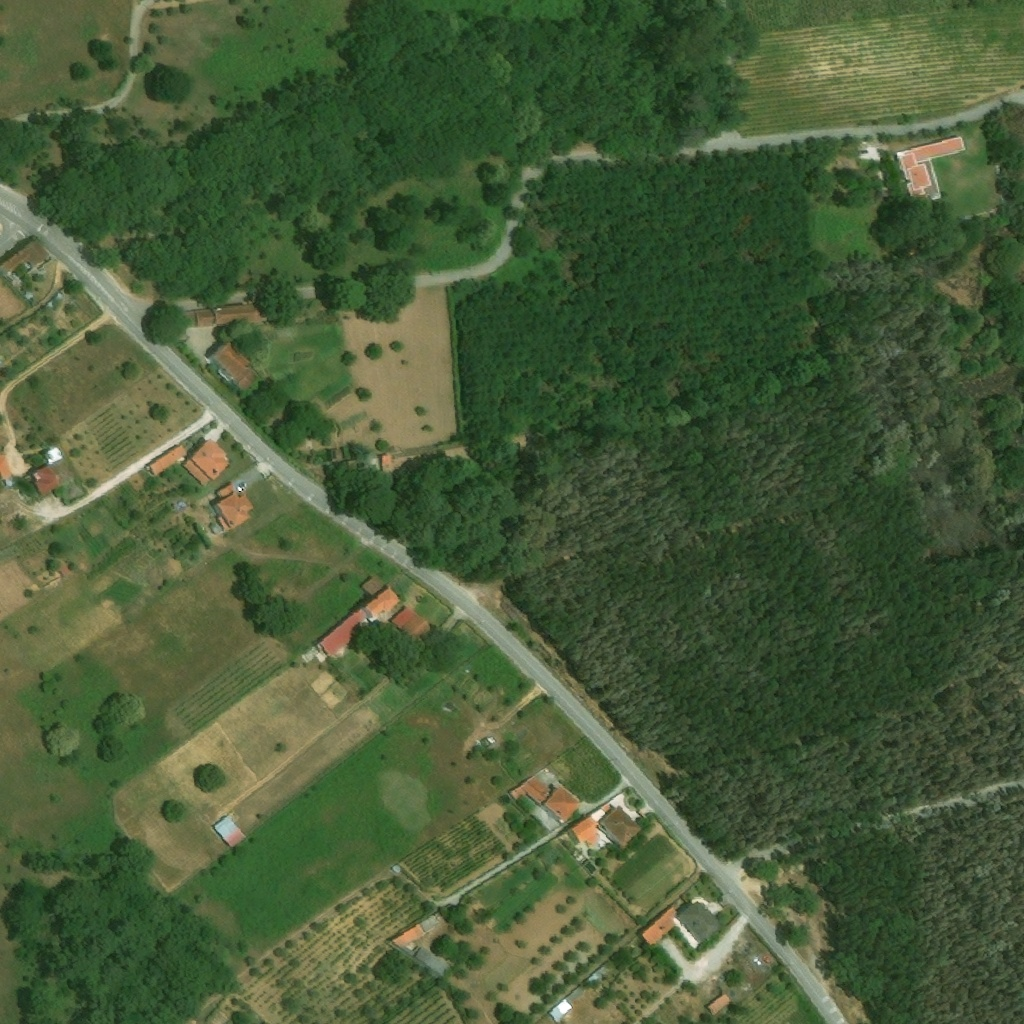0 no-damage: (893, 134, 967, 209), (311, 609, 369, 663), (208, 338, 261, 395), (182, 438, 231, 487), (212, 481, 255, 533), (677, 900, 725, 944), (0, 237, 50, 278), (391, 912, 446, 949), (598, 805, 643, 848), (390, 604, 434, 643), (192, 304, 256, 329), (638, 907, 678, 947), (361, 584, 402, 622), (401, 946, 451, 976), (544, 785, 584, 822), (148, 442, 188, 477), (508, 774, 553, 805), (212, 814, 249, 851), (31, 466, 61, 495), (570, 815, 599, 845), (549, 997, 577, 1023), (358, 573, 387, 596), (380, 453, 405, 478), (706, 993, 733, 1016), (44, 446, 65, 466), (362, 451, 378, 467), (0, 454, 11, 477), (586, 970, 602, 985), (58, 565, 70, 577), (392, 863, 404, 874)
4 un-classified: (440, 447, 468, 470), (0, 436, 10, 450)
